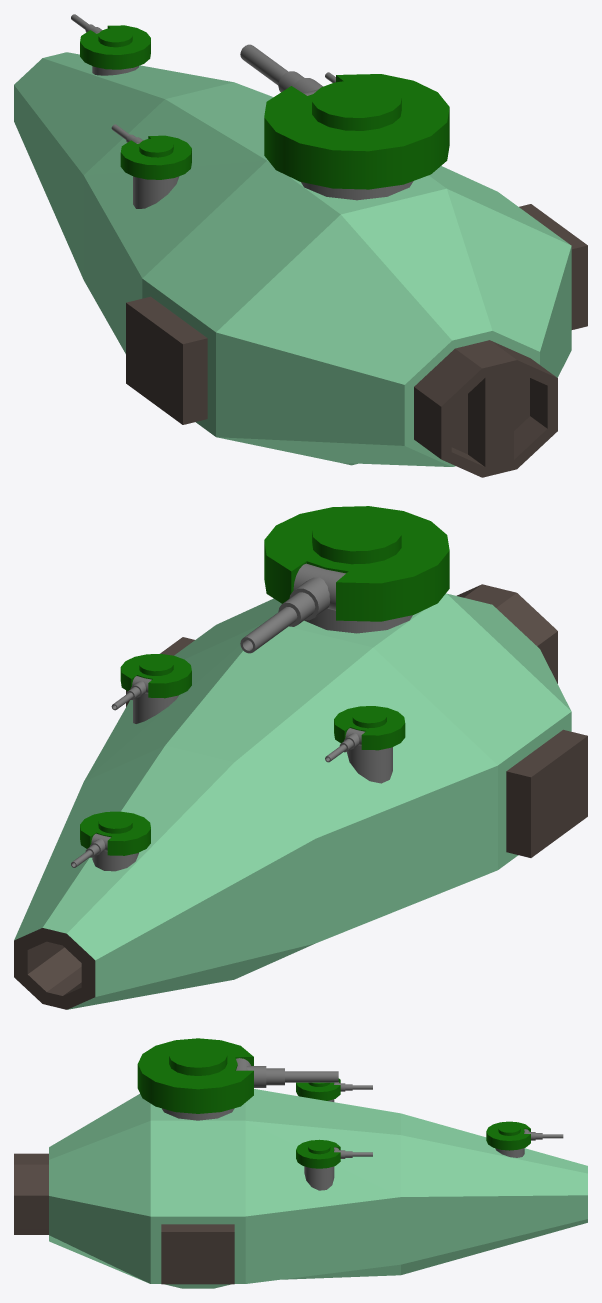
File: multiturret.fbx
3 renders of one model, top to bottom at view 1: azimuth 30°, elevation 25°; view 2: azimuth 150°, elevation 25°; view 3: azimuth 270°, elevation 25°, orthographic. The views are drawn at different scales.
Visible parts, largest first — view 1: Cube.048, Cylinder.056, Cylinder.068, Cylinder.060, Cylinder.058, Cylinder.067, Cylinder.055; view 2: Cube.048, Cylinder.056, Cylinder.058, Cylinder.068, Cylinder.064, Cylinder.060, Cylinder.067, Cylinder.055, Cylinder.057, Cylinder.063, Cylinder.059; view 3: Cube.048, Cylinder.056, Cylinder.058, Cylinder.060, Cylinder.064, Cylinder.068, Cylinder.063, Cylinder.055.
Part boxes in pixels (x1,y1,x2,y2): Cube.048: (14, 52, 587, 477); Cylinder.056: (264, 74, 449, 189); Cylinder.068: (120, 135, 191, 179); Cylinder.060: (80, 25, 150, 69); Cylinder.058: (240, 44, 322, 92); Cylinder.067: (133, 176, 179, 208); Cylinder.055: (301, 181, 413, 200); Cube.048: (14, 584, 587, 1009); Cylinder.056: (264, 506, 449, 621); Cylinder.058: (240, 577, 329, 653); Cylinder.068: (334, 706, 405, 750); Cylinder.064: (120, 654, 191, 698); Cylinder.060: (80, 811, 150, 855); Cylinder.067: (347, 745, 392, 783); Cylinder.055: (304, 608, 412, 633); Cylinder.057: (293, 563, 345, 610); Cylinder.063: (133, 693, 178, 723); Cylinder.059: (92, 851, 138, 871); Cube.048: (14, 1089, 587, 1288); Cylinder.056: (137, 1038, 253, 1113); Cylinder.058: (246, 1066, 338, 1087); Cylinder.060: (486, 1121, 530, 1150); Cylinder.064: (296, 1139, 340, 1168); Cylinder.068: (296, 1078, 340, 1100); Cylinder.063: (304, 1166, 334, 1190); Cylinder.055: (162, 1108, 234, 1120).
Size of the model in its own units: 987 by 821 by 1877.
